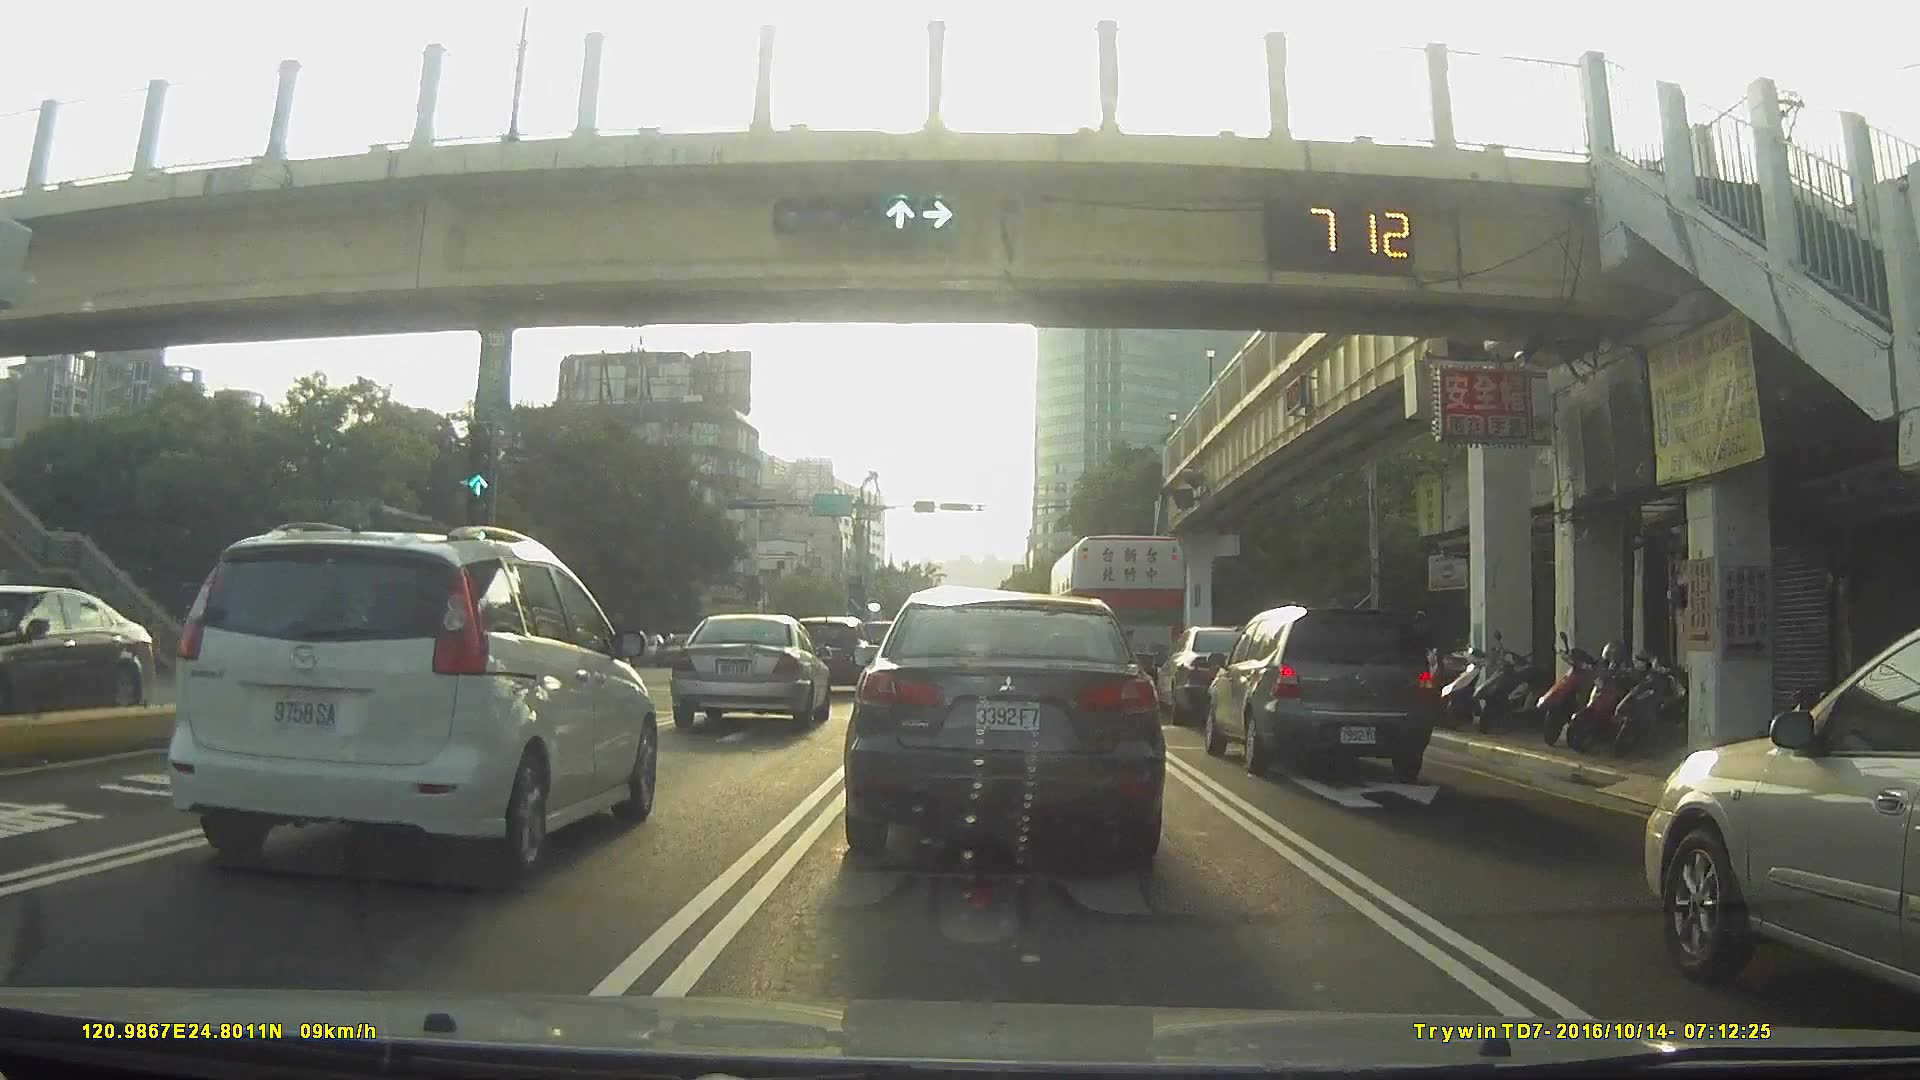vehicle: (157, 521, 661, 880), (1640, 625, 1920, 1001), (844, 585, 1160, 872), (1203, 605, 1435, 787), (1, 592, 185, 727), (1047, 535, 1195, 692), (669, 613, 828, 732), (1156, 622, 1279, 724), (790, 615, 873, 694), (632, 632, 680, 670), (651, 632, 699, 669)
